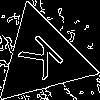K: (17, 33, 73, 88)
